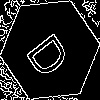D: (25, 25, 78, 82)
